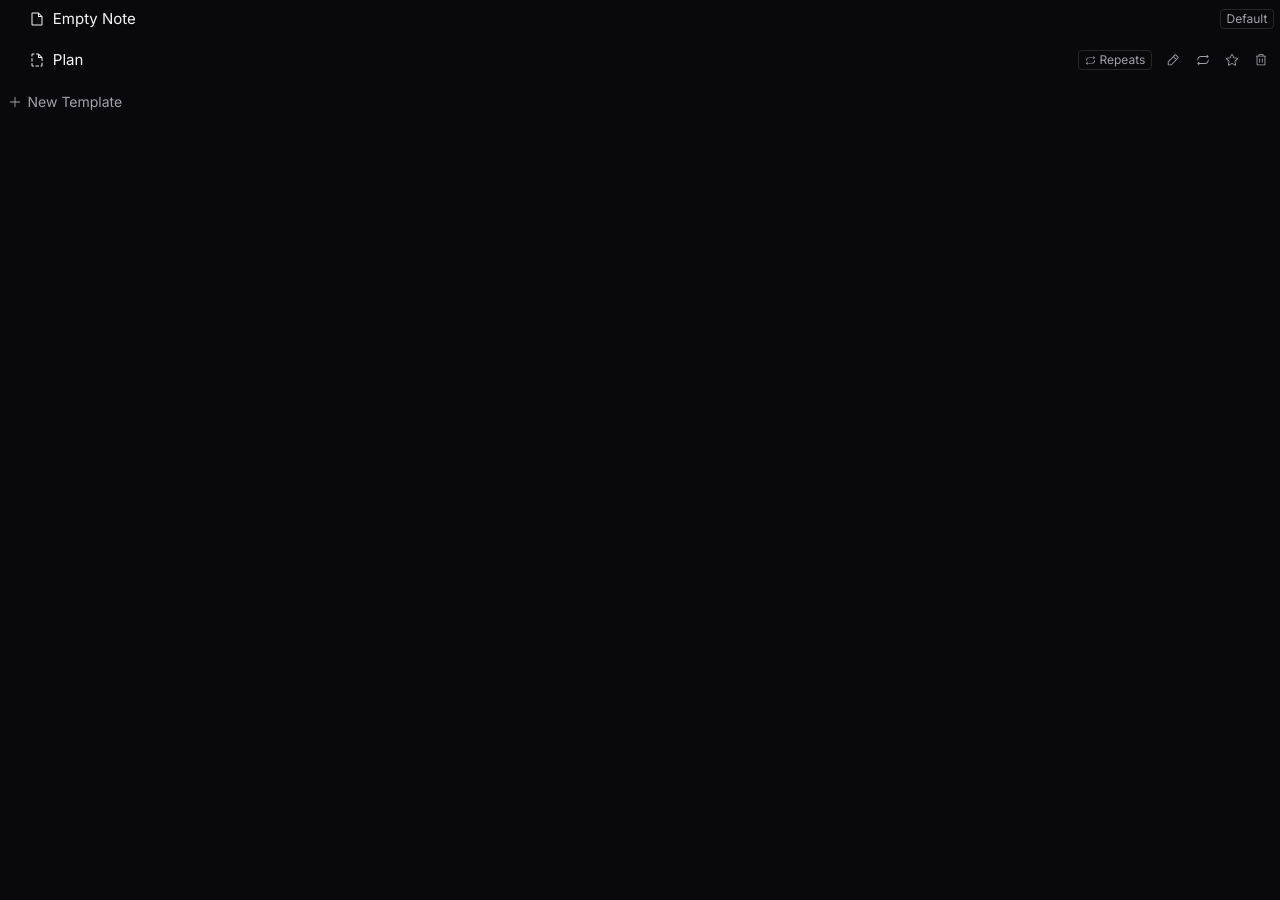
TemplateManager › M14: a repeating template shows "Repeats"; Repeat opens its dialog
Expected: the text "Repeats" is shown, [1078,50,1152,70]
Click the button named "Repeat" at (1202, 60), box [1189,46,1216,74]
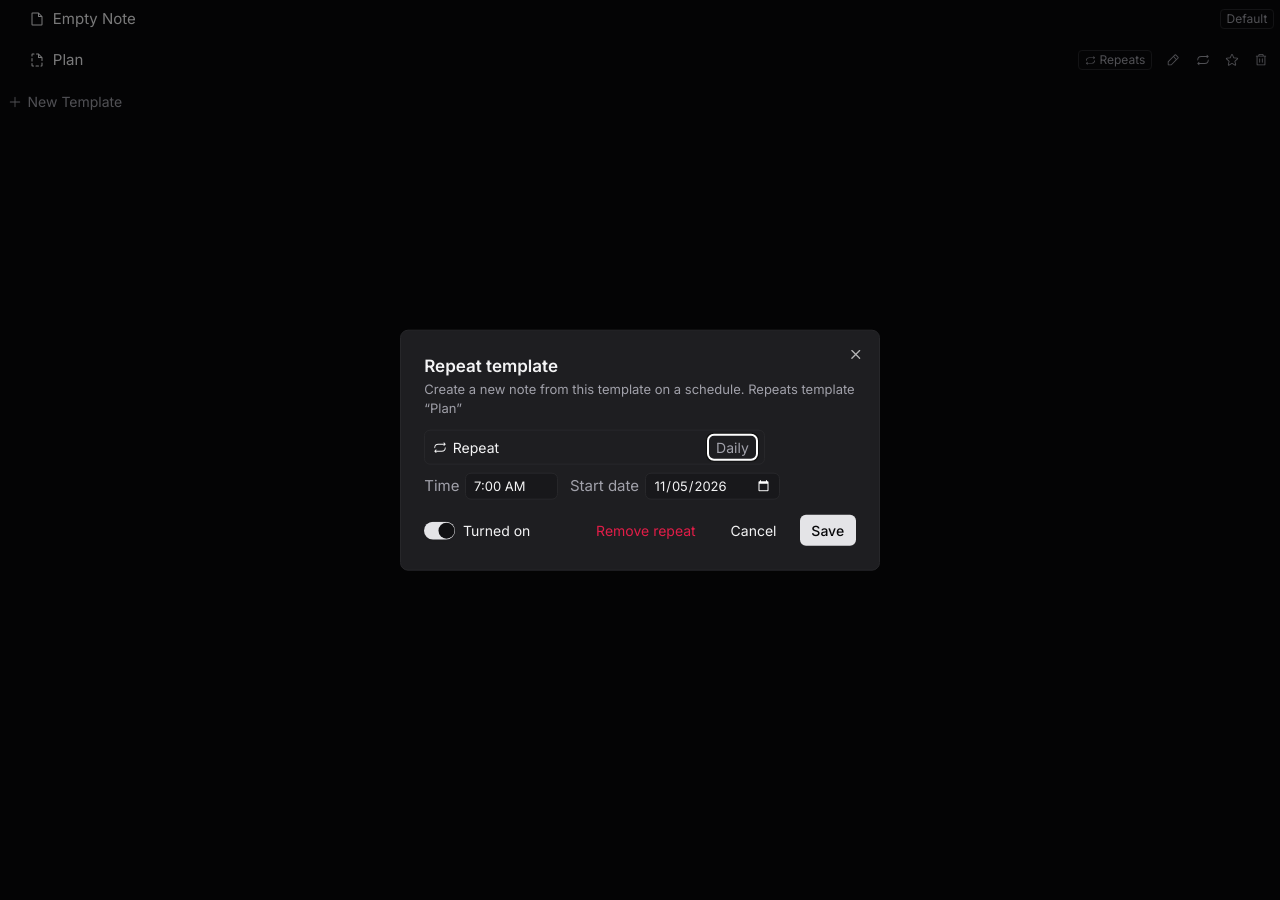
Now the button "Remove repeat" is shown, box [584,515,707,546]
